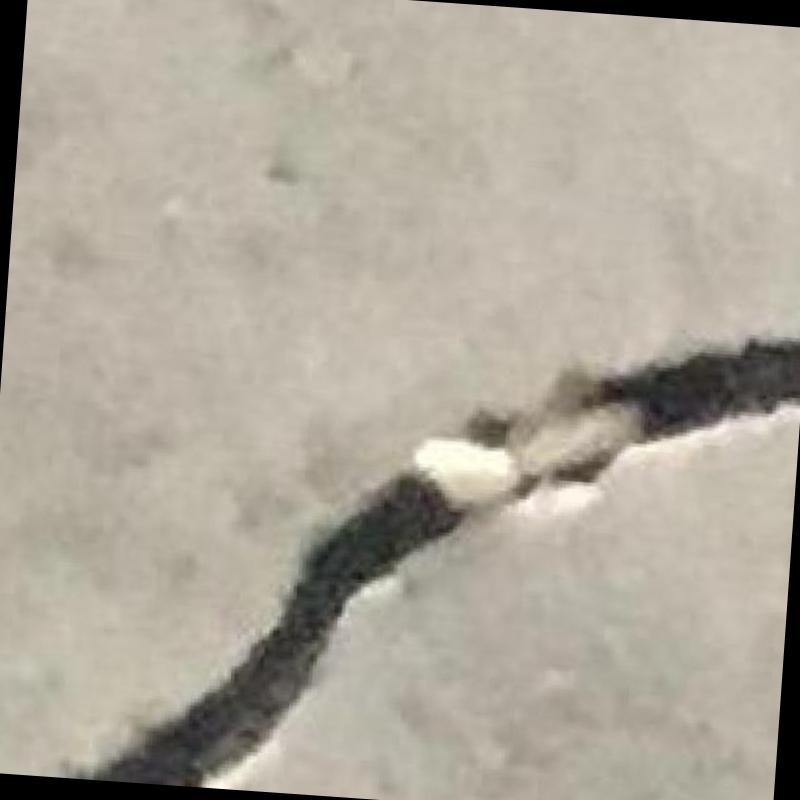pothole: (79, 338, 800, 786)
